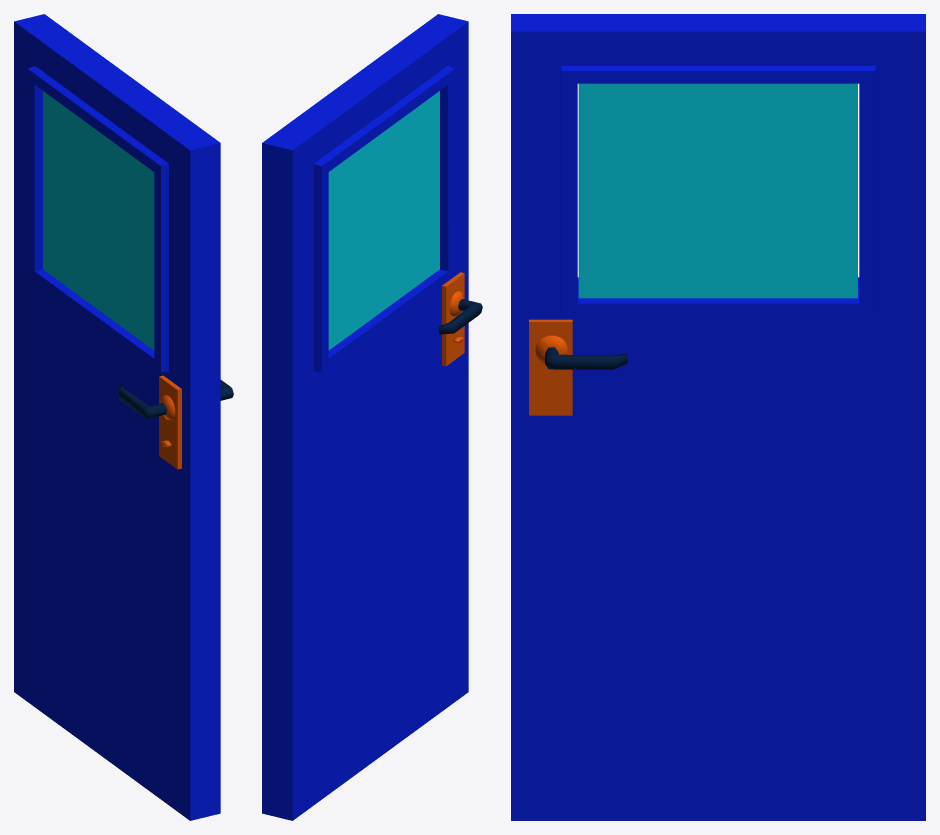
File: Door.fbx
3 renders of one model, left to right at view 1: azimuth 30°, elevation 25°; view 2: azimuth 150°, elevation 25°; view 3: azimuth 270°, elevation 25°, orthographic. The views are drawn at different scales.
Parts seen in each view (by area): view 1: Door_Body_Low, Door_Glass, Door_Handle_External_Low; view 2: Door_Body_Low, Door_Glass, Door_Handle_External_Low; view 3: Door_Body_Low, Door_Glass, Door_Handle_External_Low.
Boxes of the visible parts, x1,y1,x2,y2 form: Door_Body_Low: (14, 14, 220, 820); Door_Glass: (43, 91, 154, 350); Door_Handle_External_Low: (118, 380, 233, 418); Door_Body_Low: (262, 14, 468, 820); Door_Glass: (328, 91, 439, 350); Door_Handle_External_Low: (438, 299, 482, 334); Door_Body_Low: (511, 14, 925, 820); Door_Glass: (578, 83, 857, 298); Door_Handle_External_Low: (545, 347, 627, 369).
Size of the model in its own units: 28.55 by 210 by 100.
